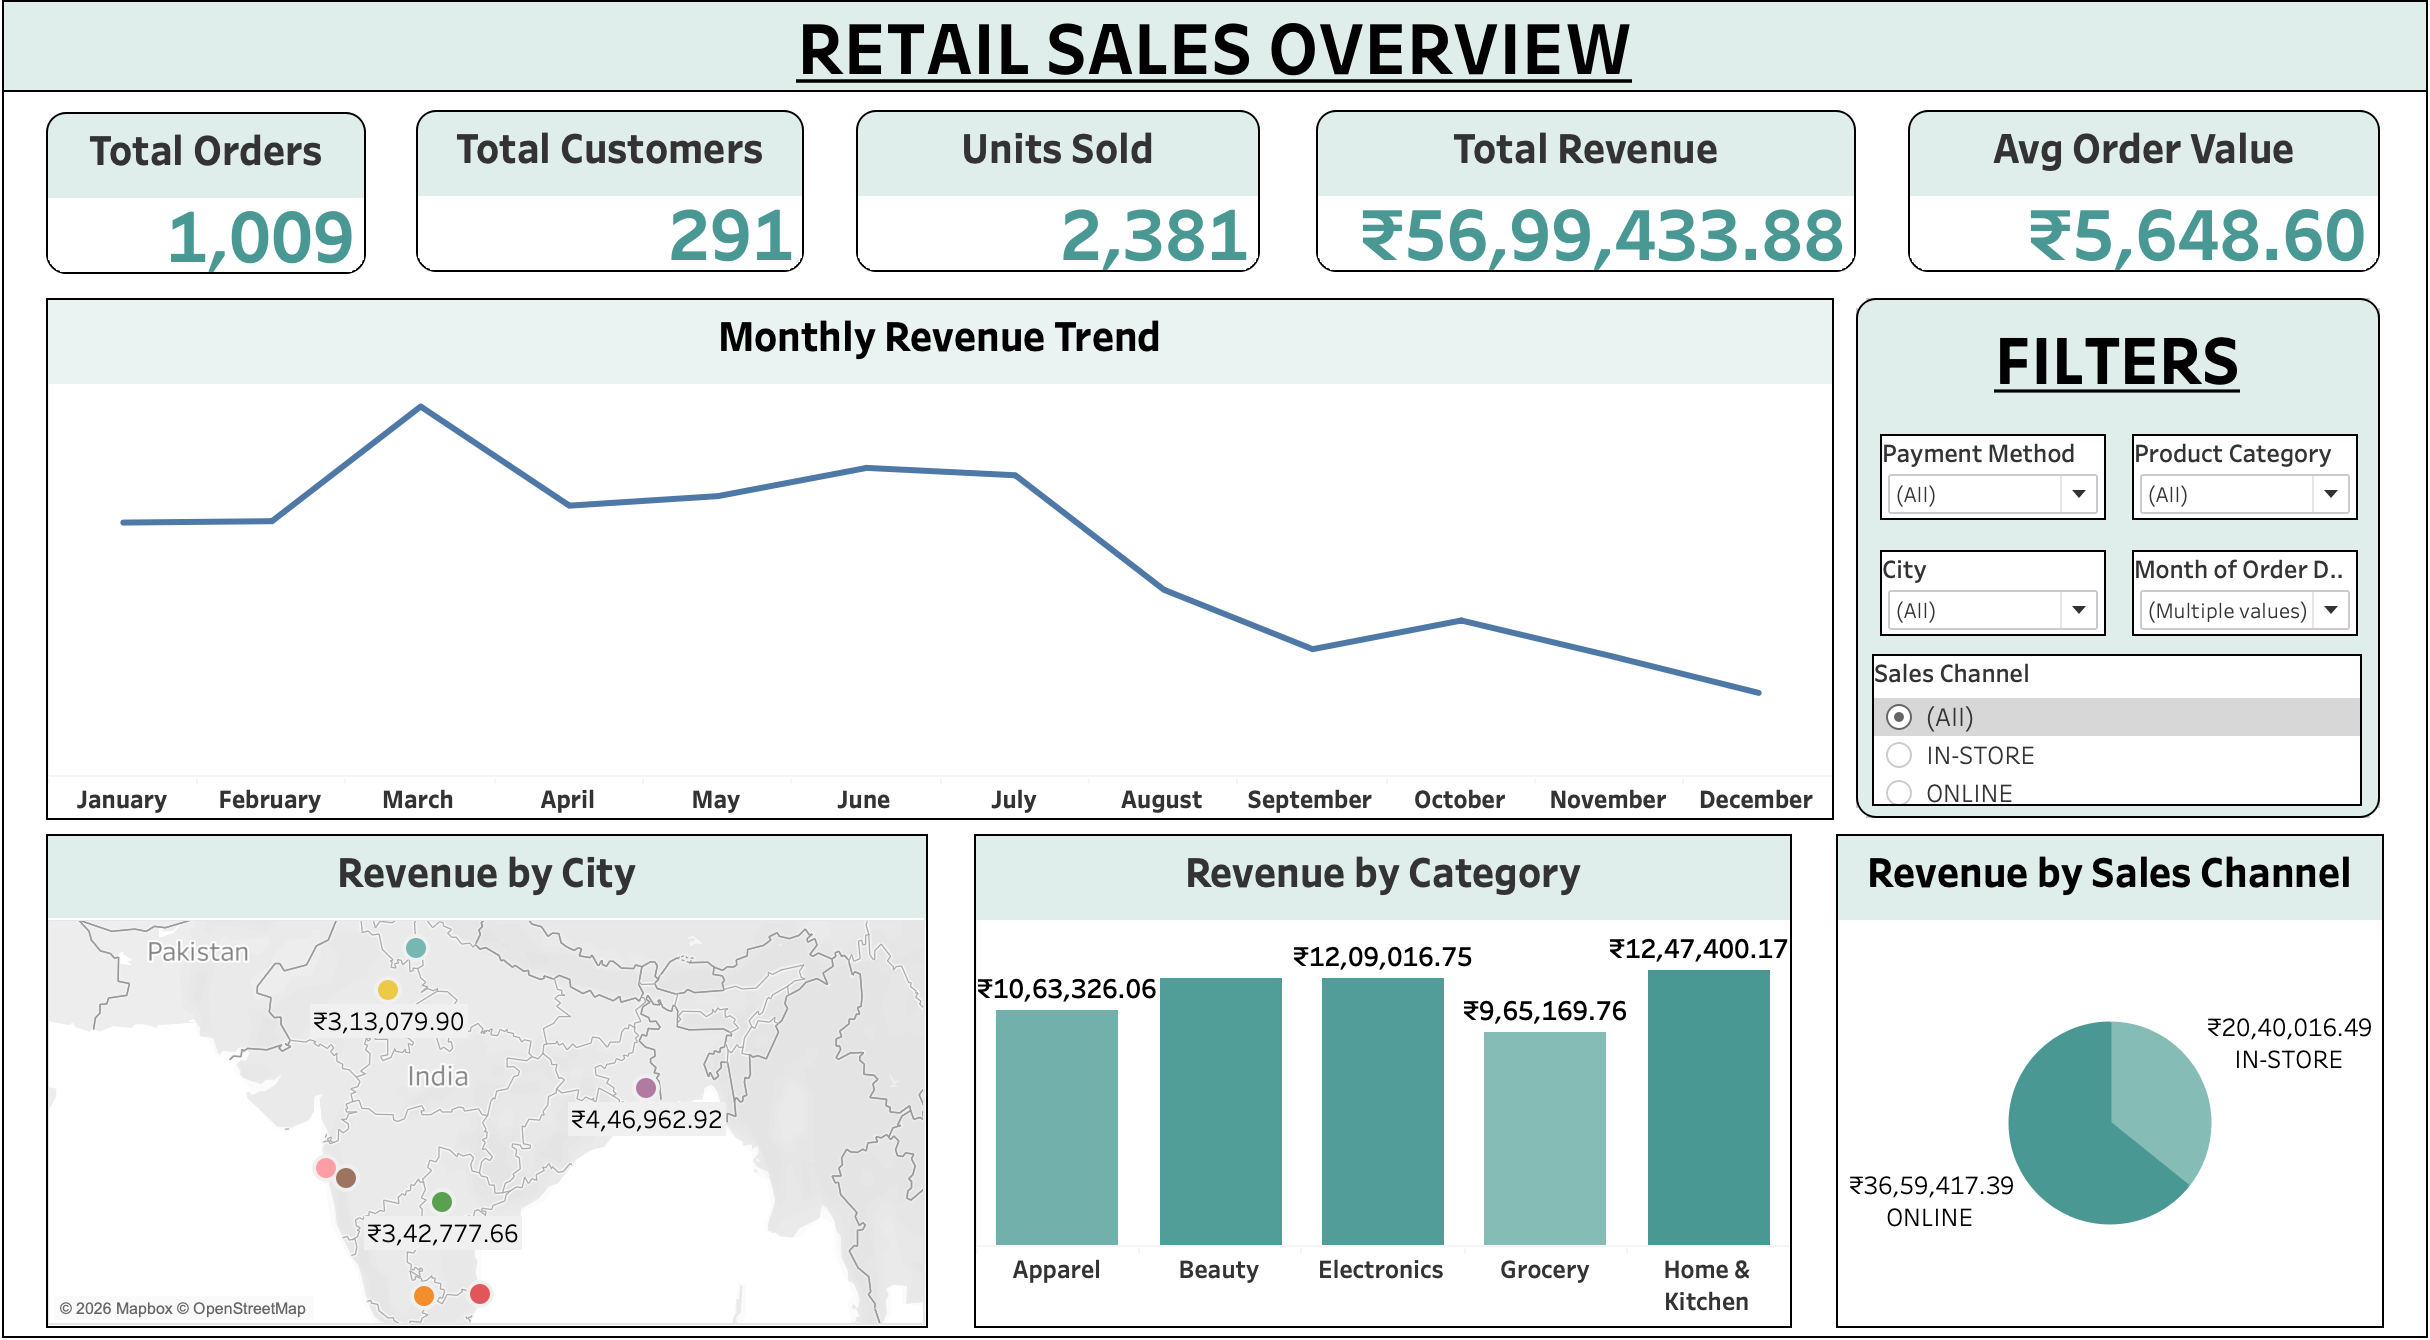

What the dashboard file says about the page in this screenshot:
{"tool":"tableau","page":{"name":"Dashboard 1","canvas":[1229,684],"ordinal":0},"visuals":[{"type":"text","box":[8,7,1213,46]},{"type":"worksheet","title":"Total Customers","mark":"Automatic","box":[215,62,194,81]},{"type":"worksheet","title":"Unit sold","mark":"Automatic","box":[435,62,202,81]},{"type":"worksheet","title":"Total Revenue","mark":"Automatic","box":[665,62,270,81]},{"type":"worksheet","title":"Avg Order Value","mark":"Automatic","box":[961,62,236,81]},{"type":"worksheet","title":"Total orders","mark":"Automatic","box":[30,63,160,81]},{"type":"worksheet","title":"Monthly Revenue Trend","mark":"Automatic","rows":["total_amount"],"cols":["order_date"],"box":[30,156,894,261]},{"type":"text","box":[936,166,260,40]},{"type":"filter","title":"Monthly Revenue Trend","param":"[federated.0u9i5l01yto5i41epqira1vtw49c].[none:payment_method:nk]","box":[947,224,113,43]},{"type":"filter","title":"Monthly Revenue Trend","param":"[federated.0u9i5l01yto5i41epqira1vtw49c].[none:product_category:nk]","box":[1073,224,113,43]},{"type":"filter","title":"Monthly Revenue Trend","param":"[federated.0u9i5l01yto5i41epqira1vtw49c].[none:city:nk]","box":[947,282,113,43]},{"type":"filter","title":"Monthly Revenue Trend","param":"[federated.0u9i5l01yto5i41epqira1vtw49c].[mn:order_date:ok]","box":[1073,282,113,43]},{"type":"filter","title":"Monthly Revenue Trend","param":"[federated.0u9i5l01yto5i41epqira1vtw49c].[none:sales_channel:nk]","box":[943,334,245,76]},{"type":"worksheet","title":"Revenue by City","mark":"Automatic","box":[30,424,441,247]},{"type":"worksheet","title":"Revenue by Category","mark":"Automatic","rows":["total_amount"],"cols":["product_category"],"box":[494,424,409,247]},{"type":"worksheet","title":"Revenue by Sales Channel","mark":"Pie","box":[925,424,274,247]}]}

Visuals, with their boxes in screenshot pixels (x1, y1, x2, y2), scaled from the page's 1229x684 canvas onto the 2430x1340 screenshot:
text: bbox=[16, 14, 2414, 104]
"Total Customers" worksheet: bbox=[425, 121, 809, 280]
"Unit sold" worksheet: bbox=[860, 121, 1259, 280]
"Total Revenue" worksheet: bbox=[1315, 121, 1849, 280]
"Avg Order Value" worksheet: bbox=[1900, 121, 2367, 280]
"Total orders" worksheet: bbox=[59, 123, 376, 282]
"Monthly Revenue Trend" worksheet: bbox=[59, 306, 1827, 817]
text: bbox=[1851, 325, 2365, 404]
"Monthly Revenue Trend" filter: bbox=[1872, 439, 2096, 523]
"Monthly Revenue Trend" filter: bbox=[2122, 439, 2345, 523]
"Monthly Revenue Trend" filter: bbox=[1872, 552, 2096, 637]
"Monthly Revenue Trend" filter: bbox=[2122, 552, 2345, 637]
"Monthly Revenue Trend" filter: bbox=[1865, 654, 2349, 803]
"Revenue by City" worksheet: bbox=[59, 831, 931, 1315]
"Revenue by Category" worksheet: bbox=[977, 831, 1785, 1315]
"Revenue by Sales Channel" worksheet (Pie marks): bbox=[1829, 831, 2371, 1315]
